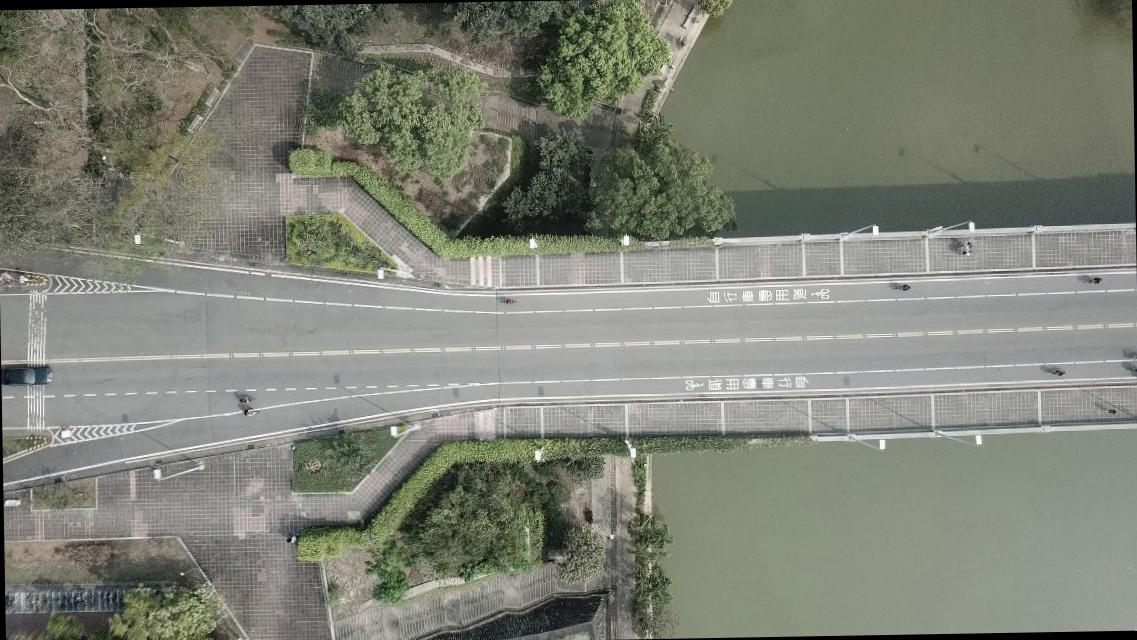vehicle: (2, 365, 51, 386)
